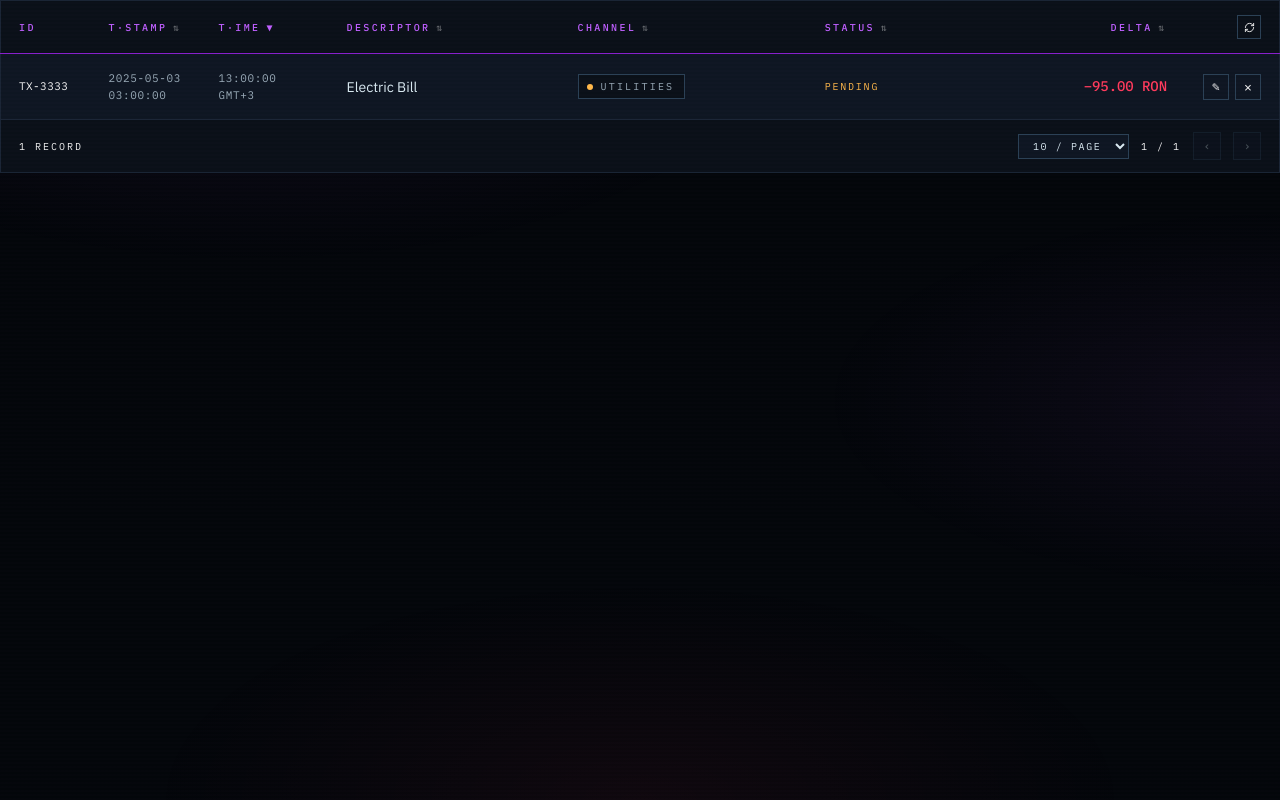
it: TransactionsTable › delete button › opens confirm modal when delete button is clicked
Click the button "×": click(1248, 86) x1=1235 y1=74 x2=1261 y2=100
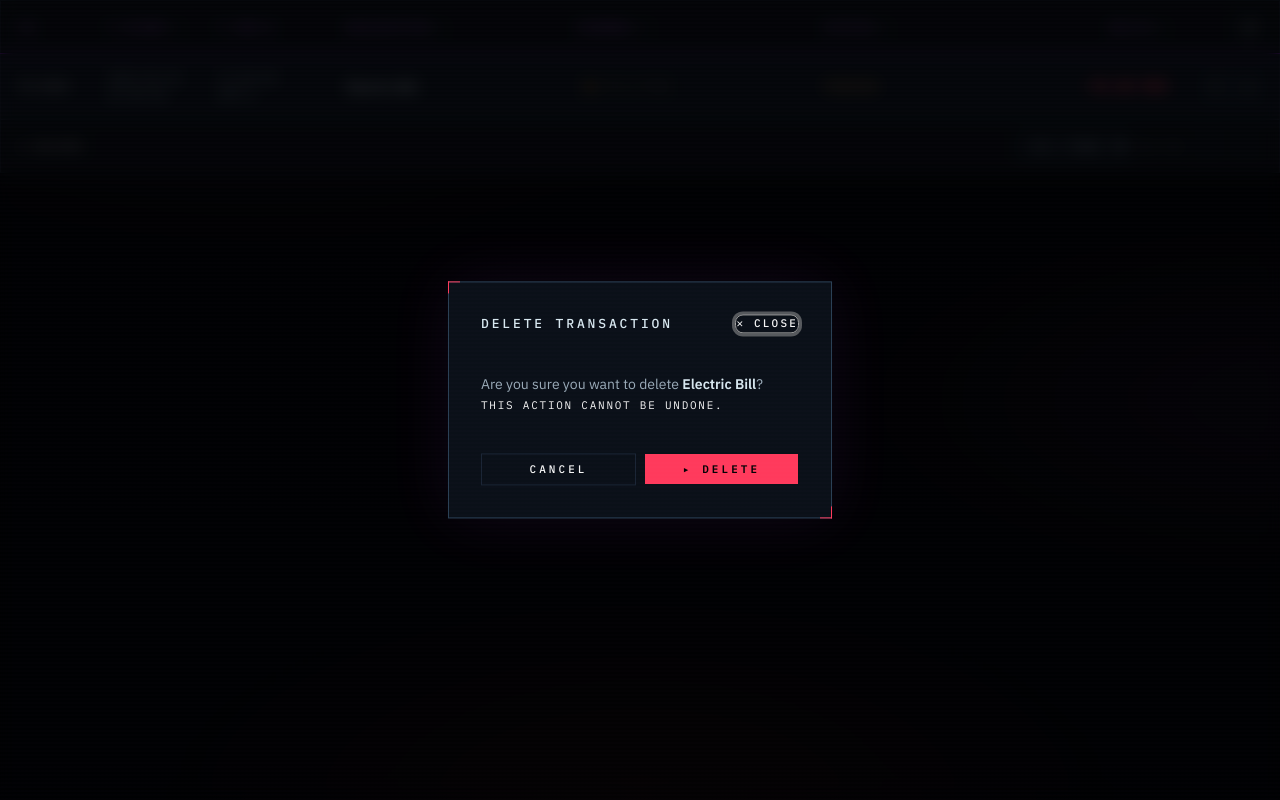
Check: the text "Are you sure you want to delete" is shown, box x1=481 y1=375 x2=679 y2=393
Check: the button "▸ DELETE" is shown, box x1=644 y1=454 x2=799 y2=486
